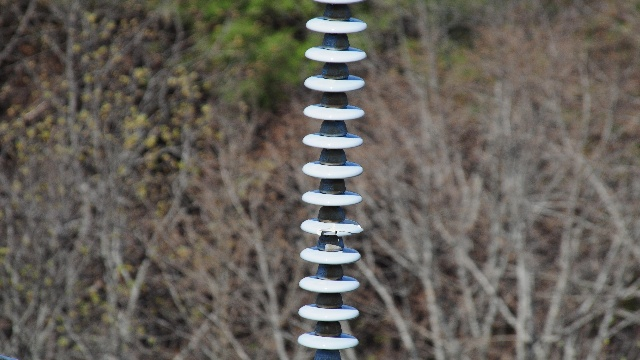broken_local: (314, 226, 363, 237)
insulator_unspecified: (297, 17, 369, 352)
